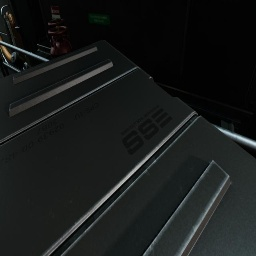NitrogenTank ,: (48, 26, 73, 59), (48, 18, 70, 47)
